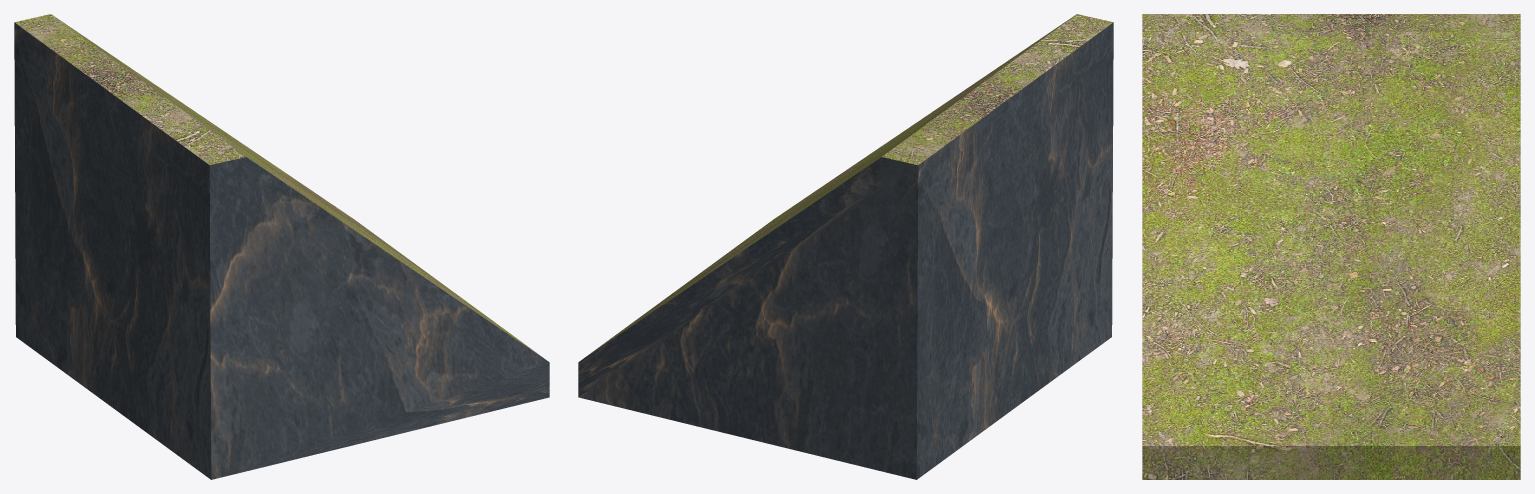
3 views of the same model, side by side, from view 1: azimuth 30°, elevation 25°; view 2: azimuth 150°, elevation 25°; view 3: azimuth 270°, elevation 25° (orthographic). The views are drawn at different scales.
Visible parts, largest first — view 1: Cube; view 2: Cube; view 3: Cube.
Boxes of the visible parts, x1,y1,x2,y2 form: Cube: [14, 14, 549, 479]; Cube: [578, 14, 1113, 479]; Cube: [1142, 14, 1520, 479].
Size of the model in its own units: 2.01 by 1.78 by 2.
1 material, 1 textured.
